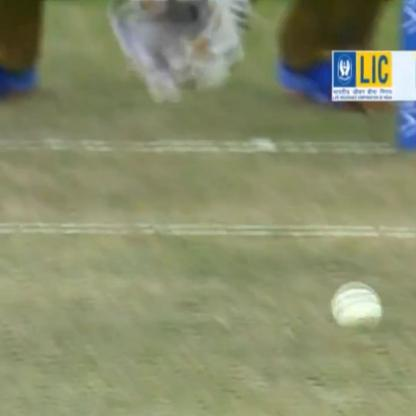ball: (324, 279, 387, 336)
